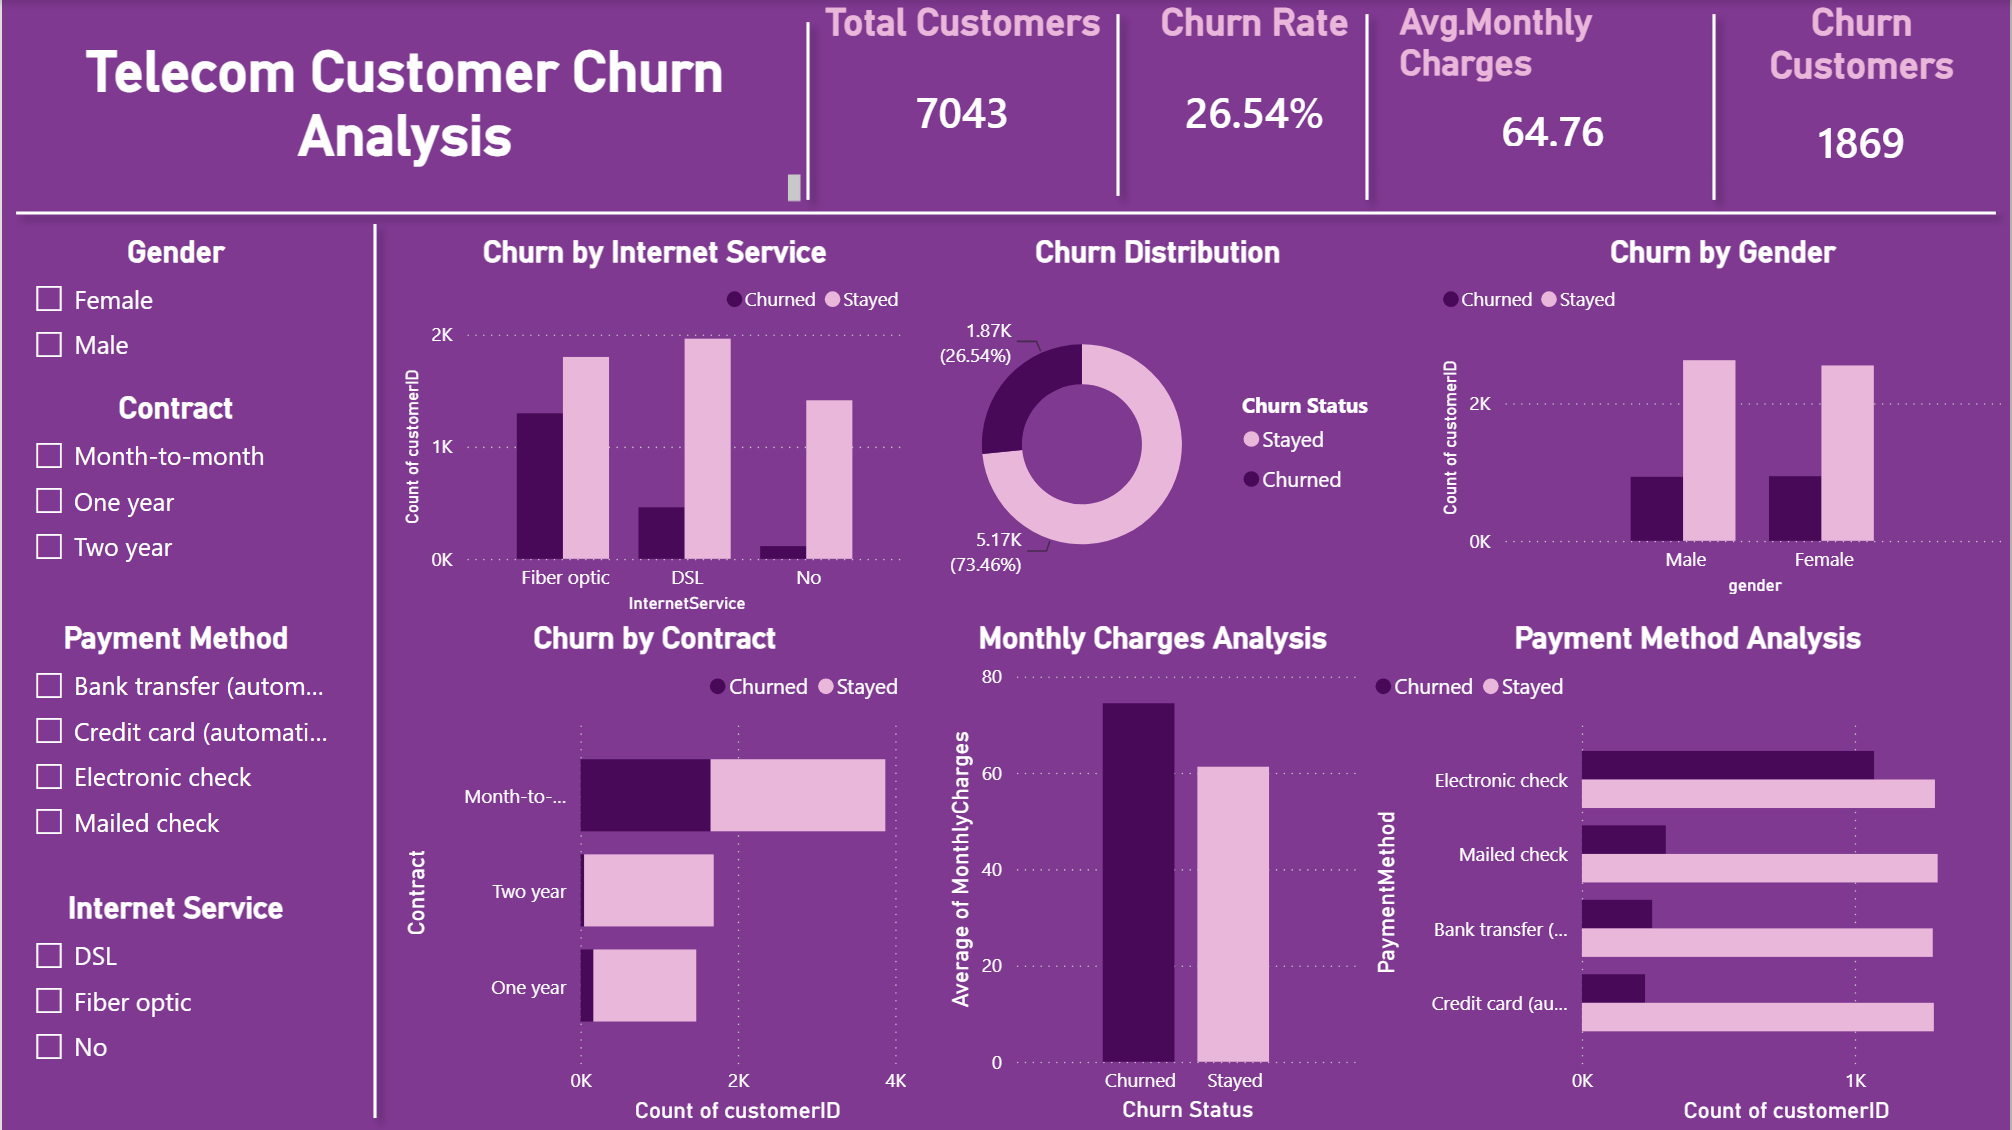

The page's visual inventory and layout, read from the dashboard file:
{"tool":"powerbi","page":{"name":"Page 1","canvas":[1280,720],"ordinal":0},"visuals":[{"type":"shape","box":[0,5.1,1280,261.4],"z":0},{"type":"shape","box":[0,133.9,475.5,587.7],"z":1000},{"type":"cardVisual","title":"Total Customers","fields":{"Data":["cleaned_churn.Total Customers"]},"box":[513.8,0,197.6,110.9],"z":2000},{"type":"cardVisual","title":"Churn Customers","fields":{"Data":["cleaned_churn.Churn Customers"]},"box":[1091.3,0,188.7,121.1],"z":3000},{"type":"cardVisual","title":"Churn Rate","fields":{"Data":["cleaned_churn.Churn Rate"]},"box":[711.4,0,174.7,110.9],"z":4000},{"type":"cardVisual","title":"Avg.Monthly Charges","fields":{"Data":["cleaned_churn.Avg Monthly Charges"]},"box":[886.1,0,205.3,110.9],"z":5000},{"type":"donutChart","title":"Churn Distribution","fields":{"Y":["CountNonNull(cleaned_churn.customerID)"],"Category":["cleaned_churn.Churn Status"]},"box":[581.4,149.2,311.1,246.1],"z":6000},{"type":"clusteredColumnChart","title":"Churn by Gender","fields":{"Category":["cleaned_churn.gender"],"Y":["CountNonNull(cleaned_churn.customerID)"],"Series":["cleaned_churn.Churn Status"]},"box":[912.8,149.2,368.4,234.6],"z":7000},{"type":"barChart","title":"Churn by Contract","fields":{"Category":["cleaned_churn.Contract"],"Y":["CountNonNull(cleaned_churn.customerID)"],"Series":["cleaned_churn.Churn Status"]},"box":[251.2,395.2,330.2,325.1],"z":8000},{"type":"clusteredColumnChart","title":"Churn by Internet Service","fields":{"Category":["cleaned_churn.InternetService"],"Y":["CountNonNull(cleaned_churn.customerID)"],"Series":["cleaned_churn.Churn Status"]},"box":[251.2,149.2,330.2,246.1],"z":9000},{"type":"clusteredBarChart","title":"Payment Method Analysis","fields":{"Series":["cleaned_churn.Churn Status"],"Category":["cleaned_churn.PaymentMethod"],"Y":["CountNonNull(cleaned_churn.customerID)"]},"box":[869.5,395.2,410.5,325.1],"z":10000},{"type":"clusteredColumnChart","title":"Monthly Charges Analysis","fields":{"Category":["cleaned_churn.Churn Status"],"Y":["Avg(cleaned_churn.MonthlyCharges)"]},"box":[597.9,395.2,271.6,325.1],"z":11000},{"type":"slicer","title":"Gender","fields":{"Values":["cleaned_churn.gender"]},"box":[8.9,149.2,204,89.2],"z":12000},{"type":"slicer","title":"Contract","fields":{"Values":["cleaned_churn.Contract"]},"box":[8.9,248.6,204,135.1],"z":13000},{"type":"slicer","title":"Internet Service","fields":{"Values":["cleaned_churn.InternetService"]},"box":[8.9,567.3,204,153],"z":14000},{"type":"slicer","title":"Payment Method","fields":{"Values":["cleaned_churn.PaymentMethod"]},"box":[8.9,395.2,204,160.6],"z":15000},{"type":"textbox","title":"Telecom Customer Churn Analysis","box":[0,24.2,513.8,109.6],"z":16000},{"type":"shape","box":[363.3,5.1,300.9,131.3],"z":17000},{"type":"shape","box":[561,0,300.9,133.9],"z":18000},{"type":"shape","box":[800.6,0,139,136.4],"z":19000},{"type":"shape","box":[1012.3,0,158.1,136.4],"z":20000}]}

Visuals, with their boxes in screenshot pixels (x1, y1, x2, y2), scaled from the page's 1280x720 canvas onto the 2012x1130 screenshot:
shape: [0,8,2011,418]
shape: [0,210,747,1129]
"Total Customers" cardVisual: [808,0,1118,174]
"Churn Customers" cardVisual: [1715,0,2011,190]
"Churn Rate" cardVisual: [1118,0,1393,174]
"Avg.Monthly Charges" cardVisual: [1393,0,1716,174]
"Churn Distribution" donutChart: [914,234,1403,620]
"Churn by Gender" clusteredColumnChart: [1435,234,2011,602]
"Churn by Contract" barChart: [395,620,914,1129]
"Churn by Internet Service" clusteredColumnChart: [395,234,914,620]
"Payment Method Analysis" clusteredBarChart: [1367,620,2011,1129]
"Monthly Charges Analysis" clusteredColumnChart: [940,620,1367,1129]
"Gender" slicer: [14,234,335,374]
"Contract" slicer: [14,390,335,602]
"Internet Service" slicer: [14,890,335,1129]
"Payment Method" slicer: [14,620,335,872]
"Telecom Customer Churn Analysis" textbox: [0,38,808,210]
shape: [571,8,1044,214]
shape: [882,0,1355,210]
shape: [1258,0,1477,214]
shape: [1591,0,1840,214]
